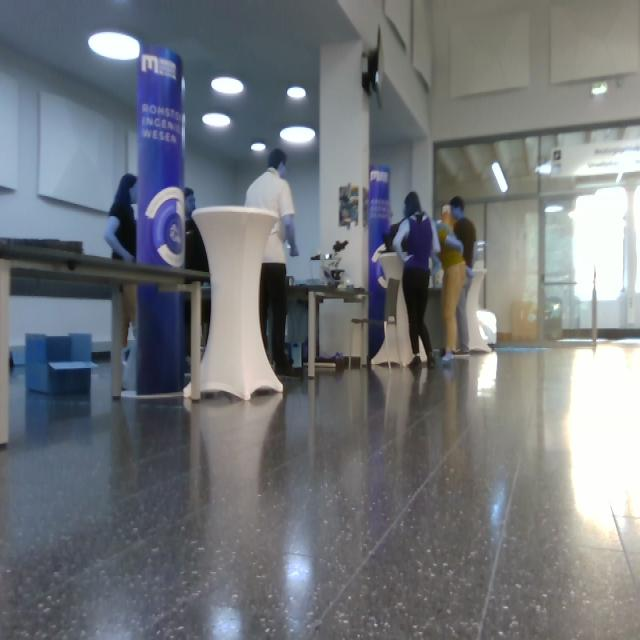light bulb: (88, 30, 141, 61), (280, 126, 316, 145), (211, 76, 244, 96), (492, 161, 509, 193), (202, 112, 231, 129), (287, 86, 307, 100), (591, 81, 608, 96), (251, 141, 266, 152)
person: (244, 148, 300, 376), (392, 192, 441, 369), (104, 173, 138, 366), (434, 204, 467, 362), (184, 186, 210, 361), (449, 196, 477, 354)
pillar: (135, 45, 187, 396), (191, 205, 284, 401)
tiled floor: (2, 339, 639, 639)
